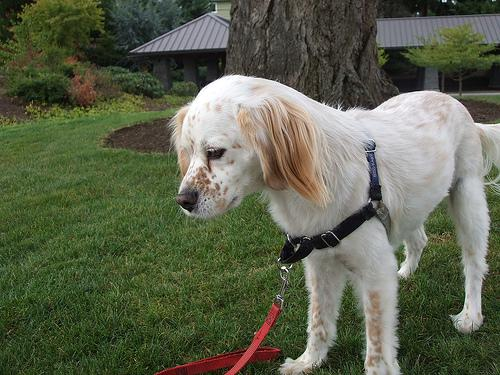dog-english_setter: (172, 73, 313, 216)
